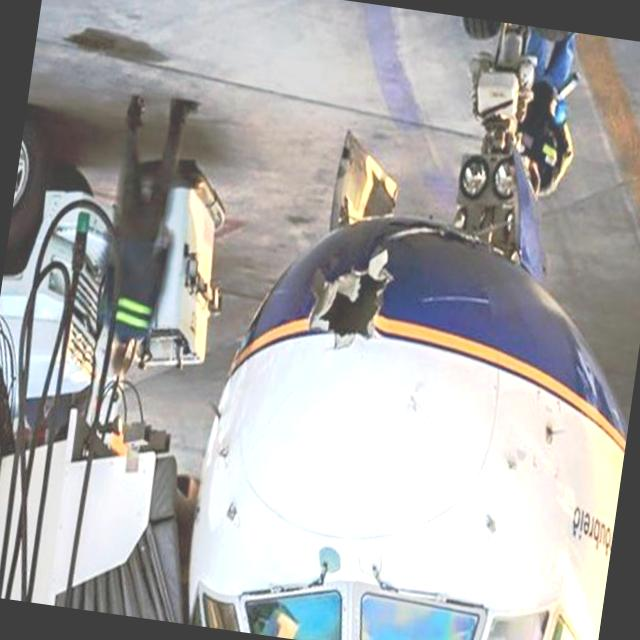crack: (302, 232, 402, 356)
